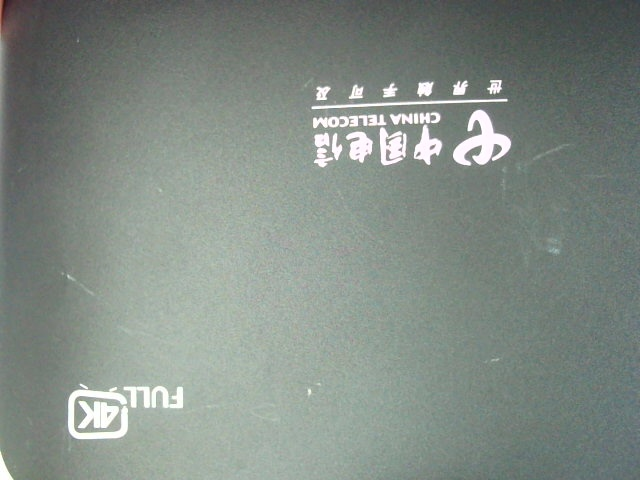AB_ChinaTelecom: (307, 80, 517, 168)
